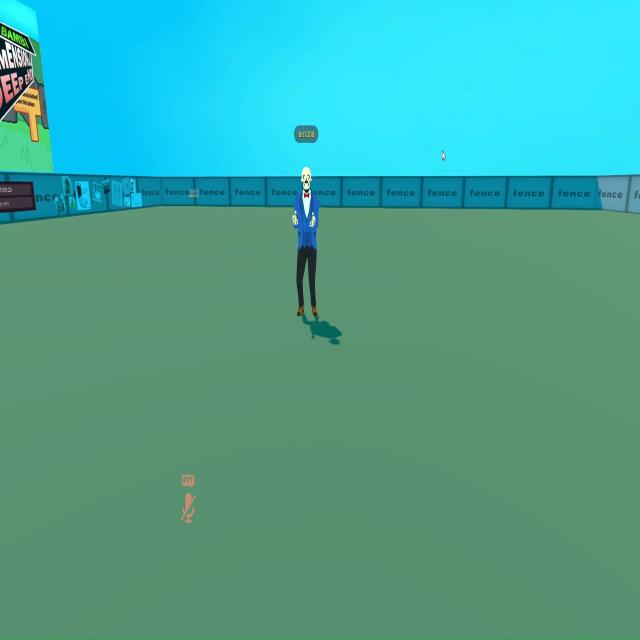human: (290, 162, 326, 326)
